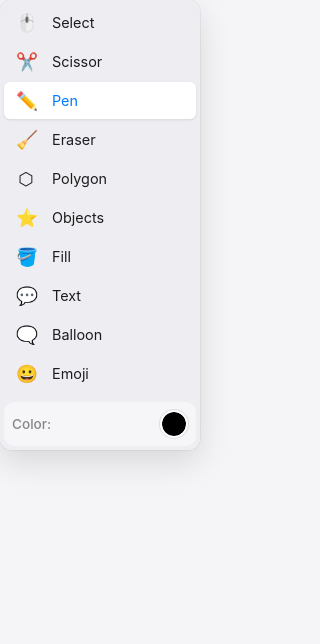
Toolbar › toggles pen submenu when pen button is clicked
The image size is (320, 644).
// Click pen button to toggle submenu
Click the button "✏️ Pen" at {"x": 100, "y": 100}, box [4,82,196,119]
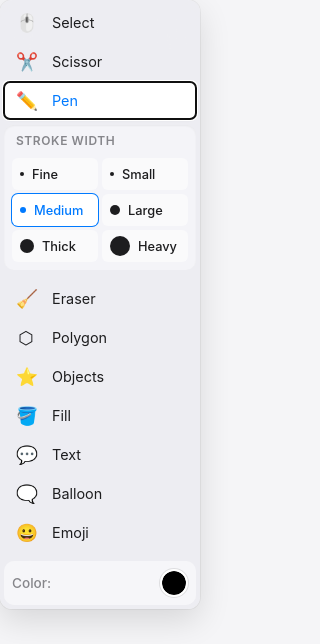
Expected: the text "Fine" is shown, [32,166,58,182]
// Click again to hide
Click the button "✏️ Pen" at {"x": 100, "y": 100}, box [4,82,196,119]
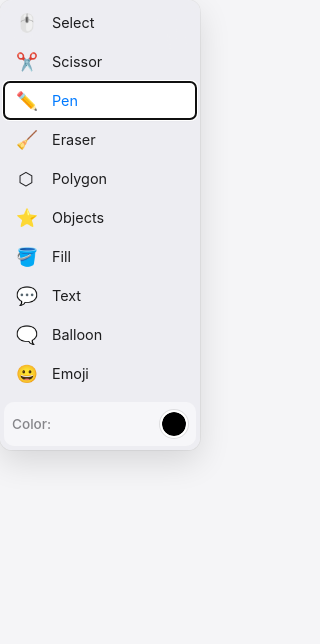
Expected: the button "Fine" is gone
